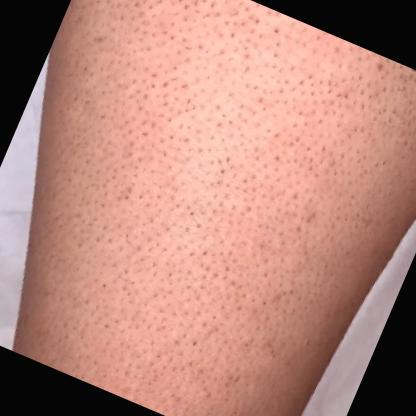Chicken Skin: (14, 0, 416, 416), (42, 0, 178, 127)
